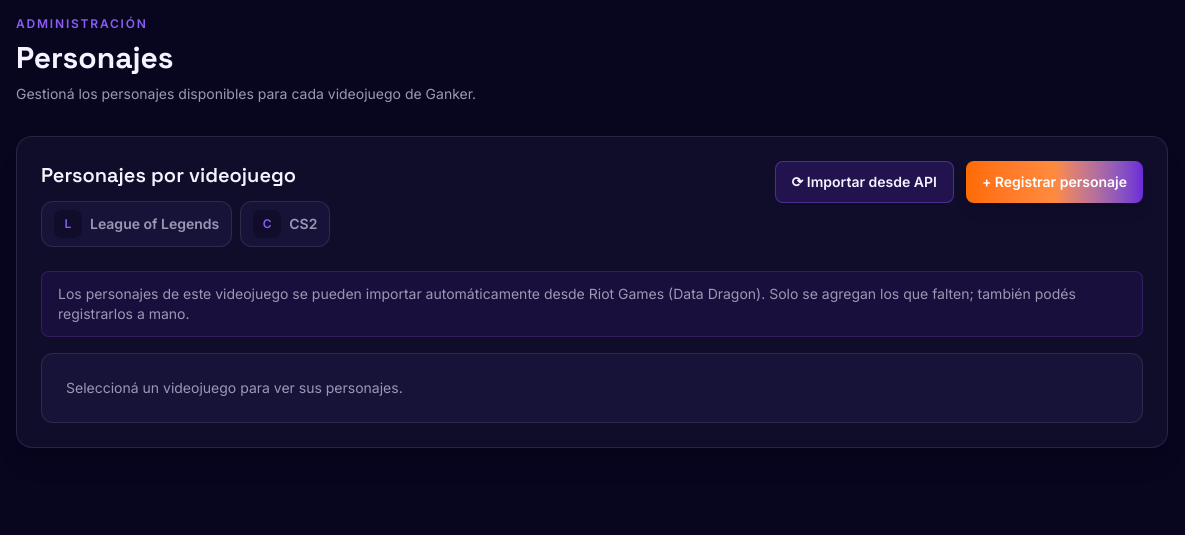
Test case: CharactersPage - importar personajes desde una API › importa los personajes y muestra el resumen
Expected: the text "se pueden importar automáticamente desde Riot Games" is shown, [58,284,1126,324]
Click the button "⟳ Importar desde API": (864, 182) [775,161,954,203]
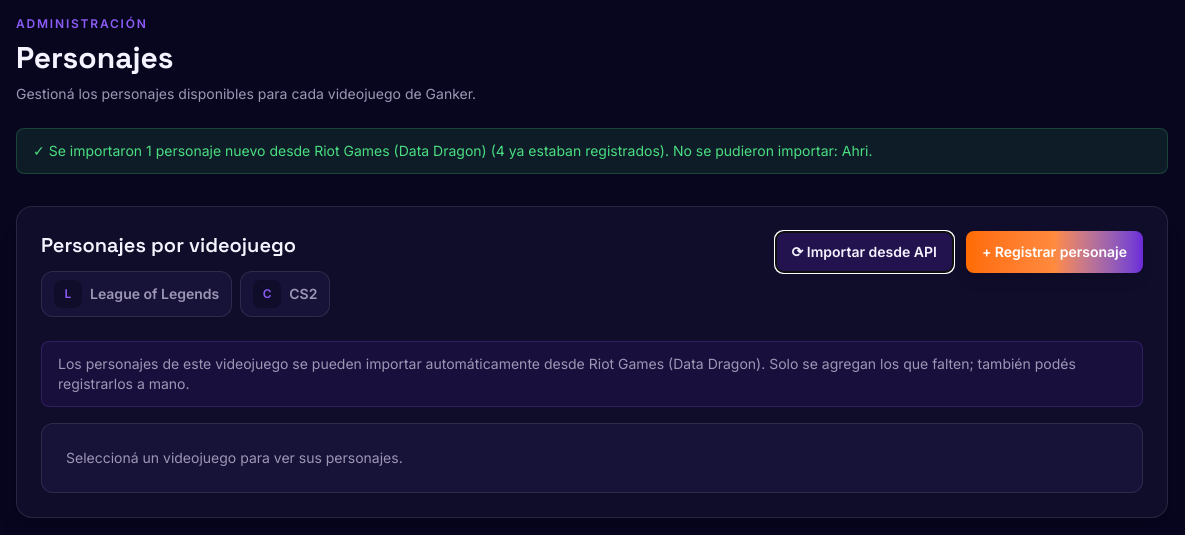
Expected: the text "Se importaron 1 personaje nuevo desde Riot Games (Data Dragon) (4 ya estaban registrados). No se pudieron importar:" is shown, [49,142,872,159]
